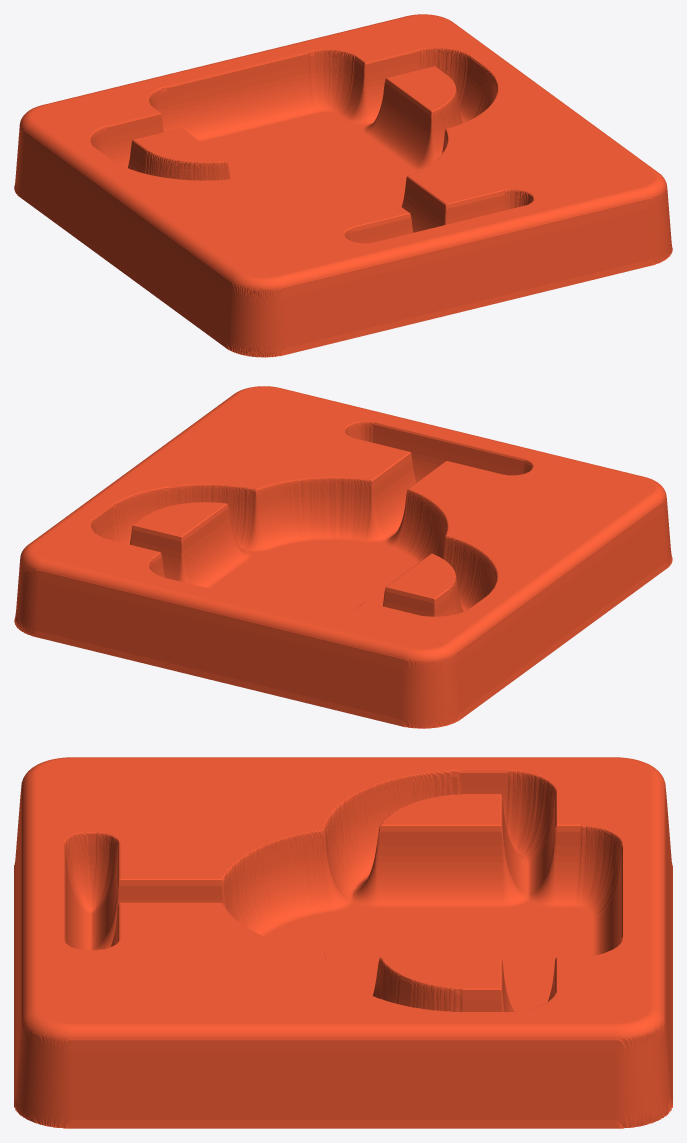
The model's file is mold.glb.
The picture shows the model from 3 angles, top to bottom: view 1: azimuth 30°, elevation 25°; view 2: azimuth 150°, elevation 25°; view 3: azimuth 270°, elevation 25°; orthographic projection. The views are drawn at different scales.
Parts seen in each view (by area): view 1: geometry_0; view 2: geometry_0; view 3: geometry_0.
Part boxes in pixels (box(x1,y1,x2,y2)): geometry_0: box(14, 14, 672, 357); geometry_0: box(14, 386, 672, 728); geometry_0: box(14, 757, 672, 1128).
Size of the model in its own units: 0.105 by 0.0165 by 0.103.
